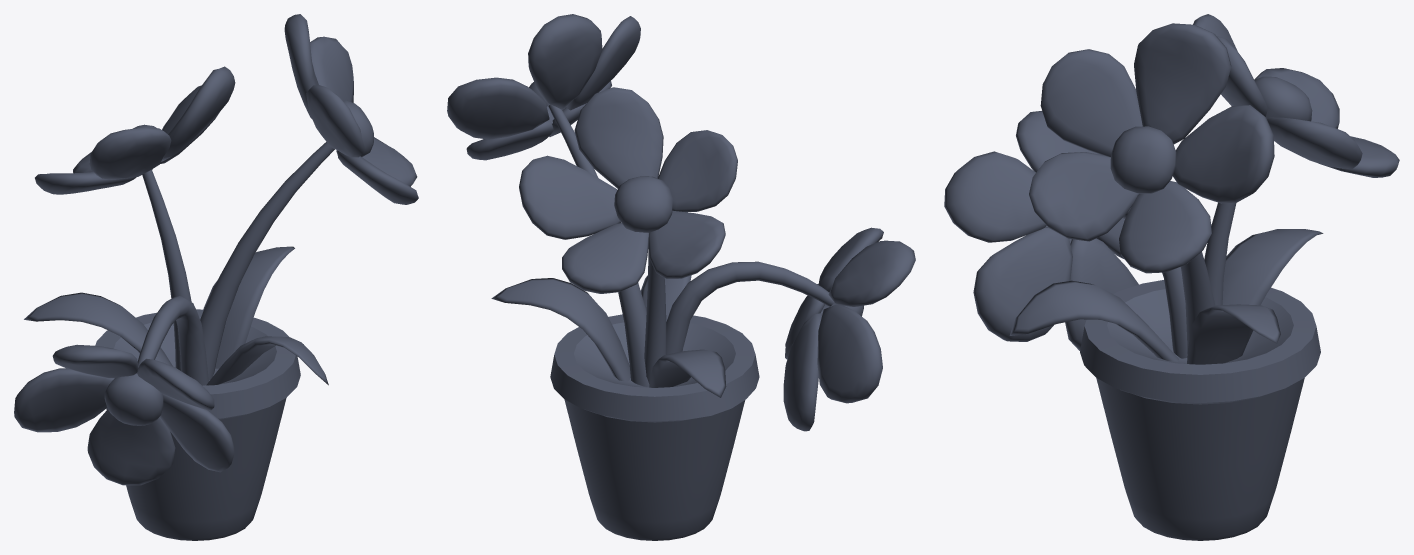
Rendered from Flower.FBX.
3 views of the same model, side by side, from view 1: azimuth 30°, elevation 25°; view 2: azimuth 150°, elevation 25°; view 3: azimuth 270°, elevation 25° (orthographic). The views are drawn at different scales.
Visible parts, largest first — view 1: Flower; view 2: Flower; view 3: Flower.
Part boxes in pixels (x1,y1,x2,y2): Flower: [14, 14, 418, 540]; Flower: [447, 14, 915, 540]; Flower: [944, 14, 1399, 540].
Size of the model in its own units: 111 by 124 by 94.35.
